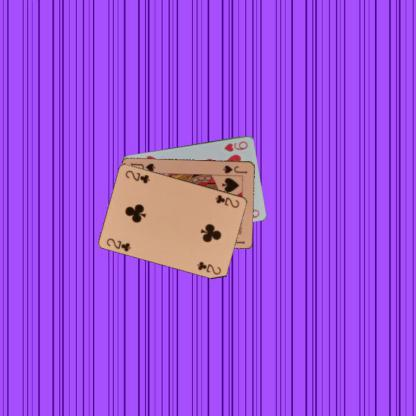2c: (104, 235, 132, 253), (213, 192, 240, 209)
9h: (221, 138, 249, 153)
Js: (221, 162, 248, 174)
